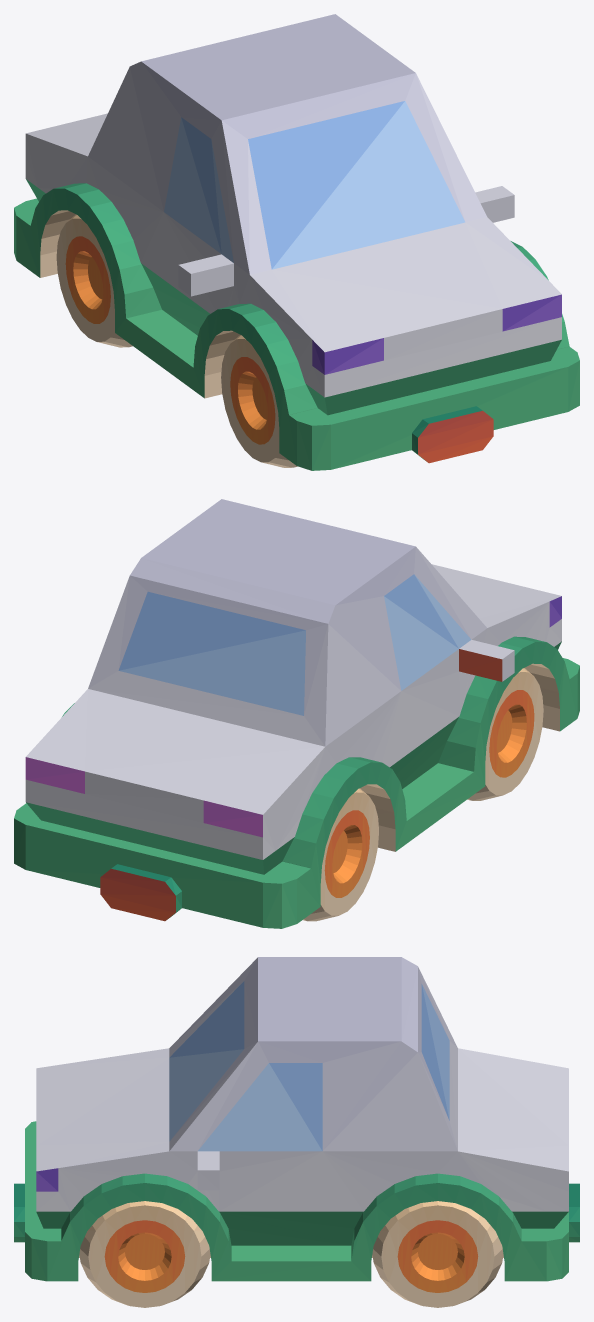
The model's file is carSedan.obj.
The picture shows the model from 3 angles, top to bottom: view 1: azimuth 30°, elevation 25°; view 2: azimuth 150°, elevation 25°; view 3: azimuth 270°, elevation 25°; orthographic projection. The views are drawn at different scales.
Bounding box in the file's own units: 1.5 × 1.3 × 2.55.
